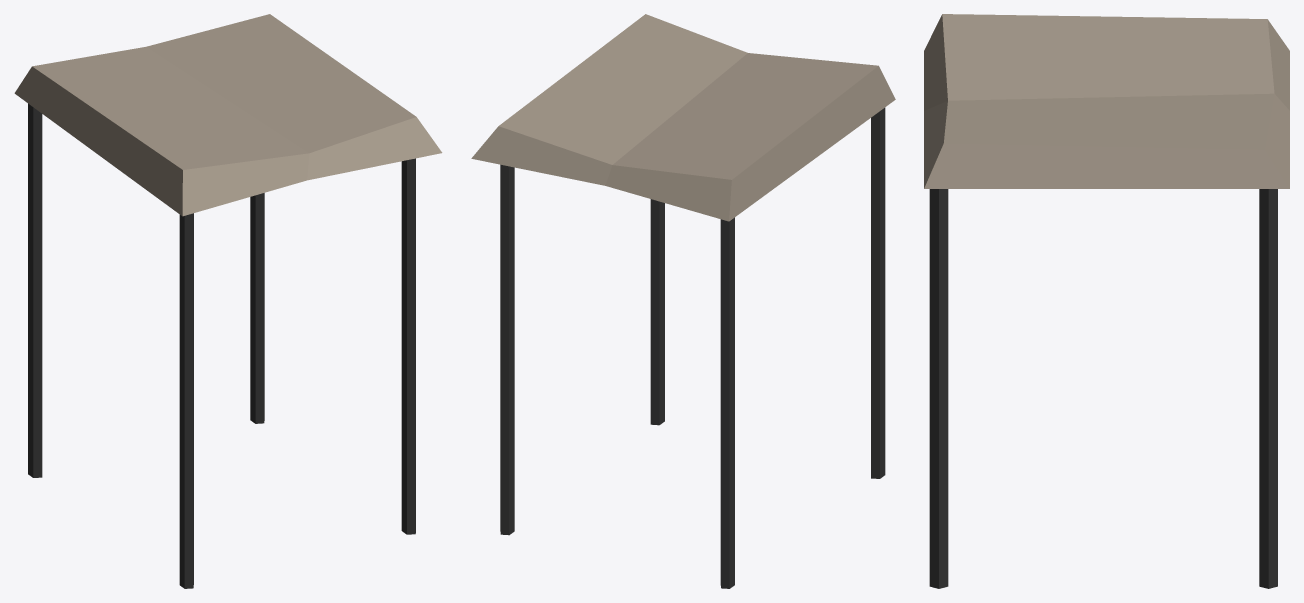
The model's file is Tower_Tarp.fbx.
The picture shows the model from 3 angles, left to right: view 1: azimuth 30°, elevation 25°; view 2: azimuth 150°, elevation 25°; view 3: azimuth 270°, elevation 25°; orthographic projection. The views are drawn at different scales.
Parts seen in each view (by area): view 1: Tower_Tarp; view 2: Tower_Tarp; view 3: Tower_Tarp.
Part boxes in pixels (x1=…): Tower_Tarp: x1=14, y1=14, x2=442, y2=588; Tower_Tarp: x1=471, y1=14, x2=895, y2=588; Tower_Tarp: x1=924, y1=14, x2=1289, y2=588.
Bounding box in the file's own units: 3.1 × 4.74 × 3.48.
